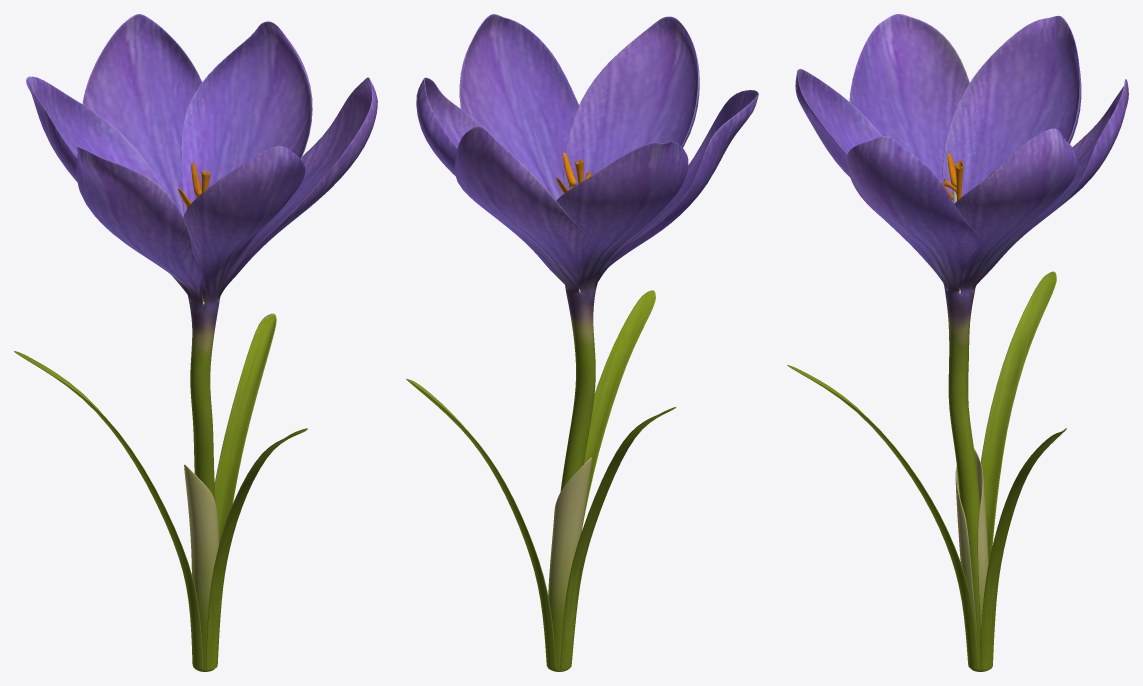
Rendered from crocus.glb.
The picture shows the model from 3 angles, left to right: view 1: azimuth 30°, elevation 25°; view 2: azimuth 150°, elevation 25°; view 3: azimuth 270°, elevation 25°; orthographic projection.
Visible parts, largest first — view 1: 12974_crocus_flower; view 2: 12974_crocus_flower; view 3: 12974_crocus_flower.
Boxes of the visible parts, box(x1,y1,x2,y2) form: 12974_crocus_flower: box(14, 14, 377, 671); 12974_crocus_flower: box(406, 14, 758, 671); 12974_crocus_flower: box(787, 14, 1128, 671).
Bounding box in the file's own units: 17.62 × 35.48 × 18.61.
Materials: 1 (1 with a texture image).
